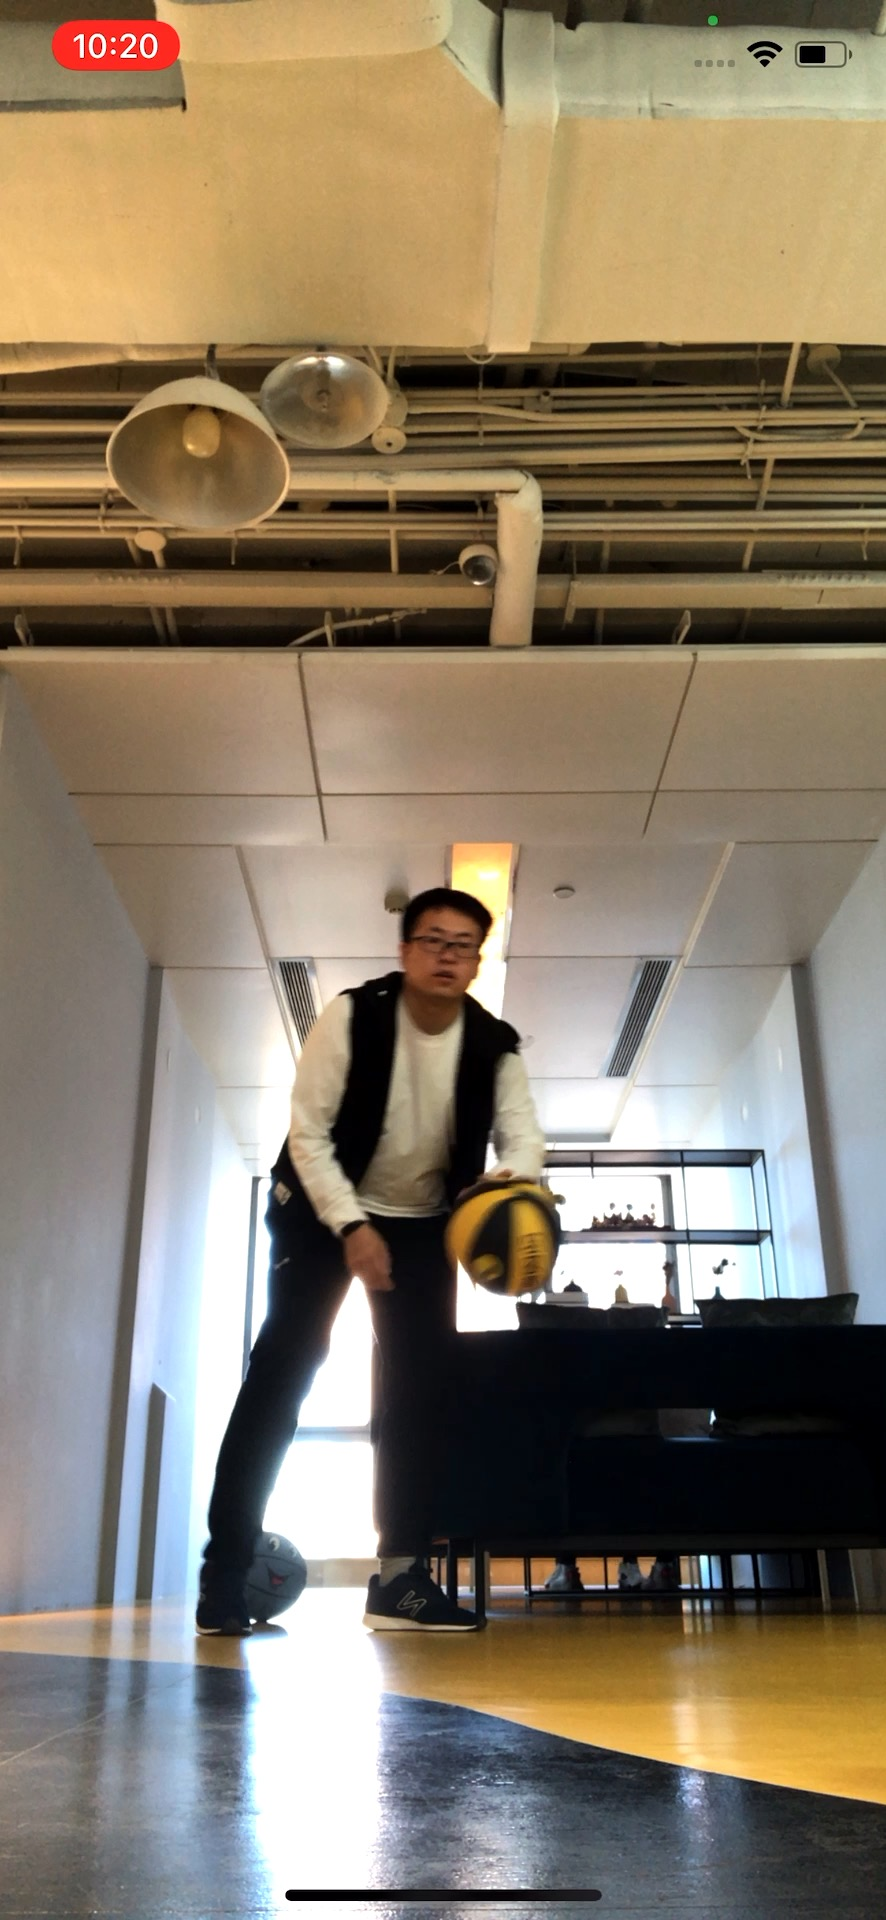ball: (445, 1174, 567, 1294), (244, 1531, 306, 1619)
